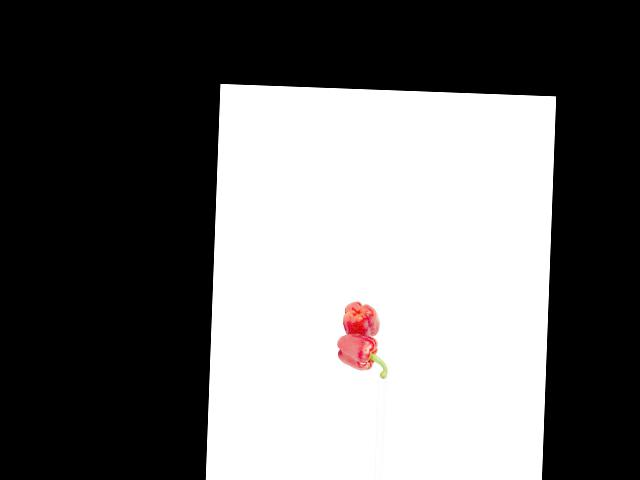bell_pepper: (340, 301, 382, 336)
